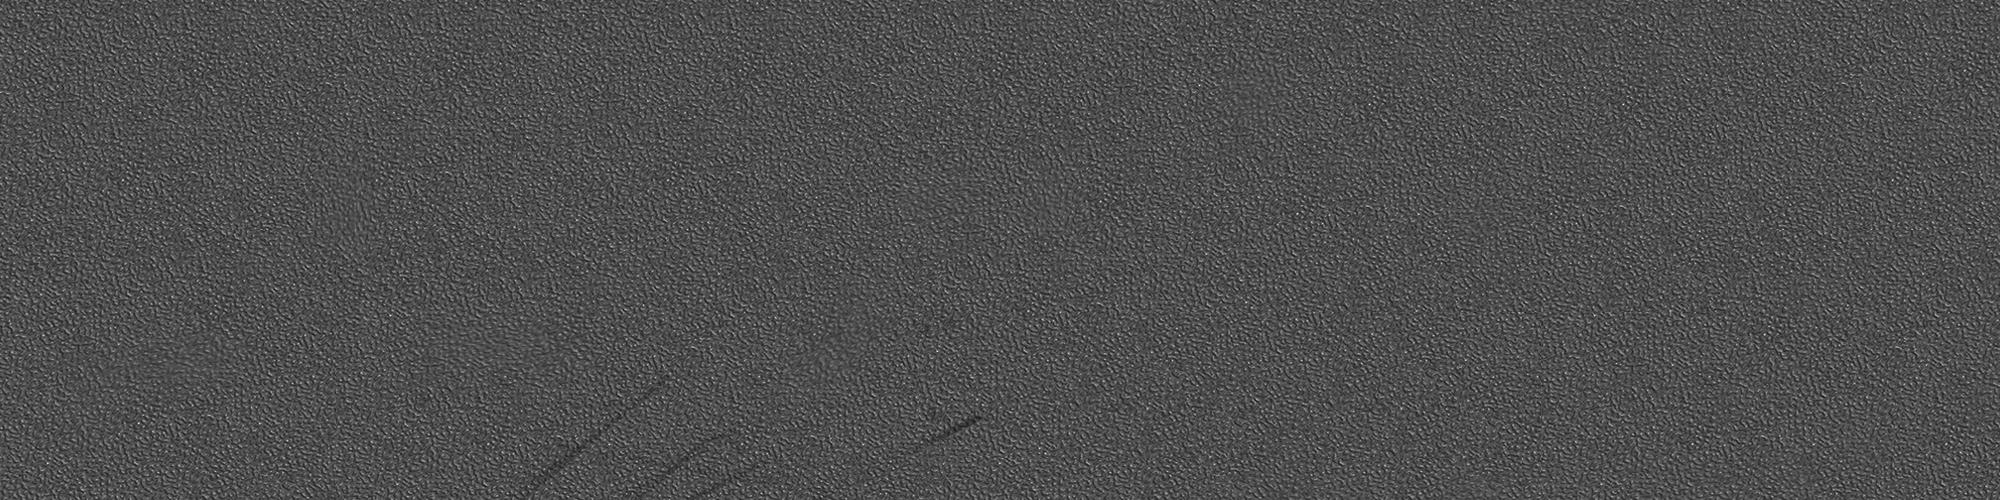Scratches: (501, 365, 682, 500), (633, 426, 769, 500), (902, 412, 996, 457)
